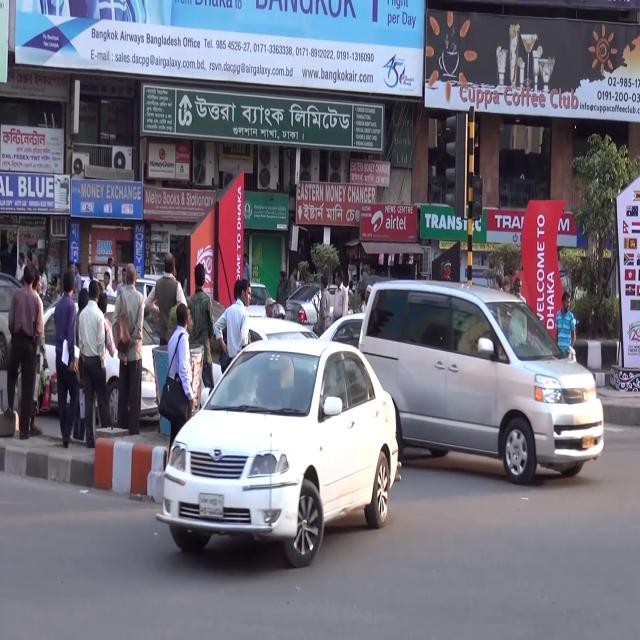silver: (356, 276, 605, 484)
white: (156, 336, 399, 567)
